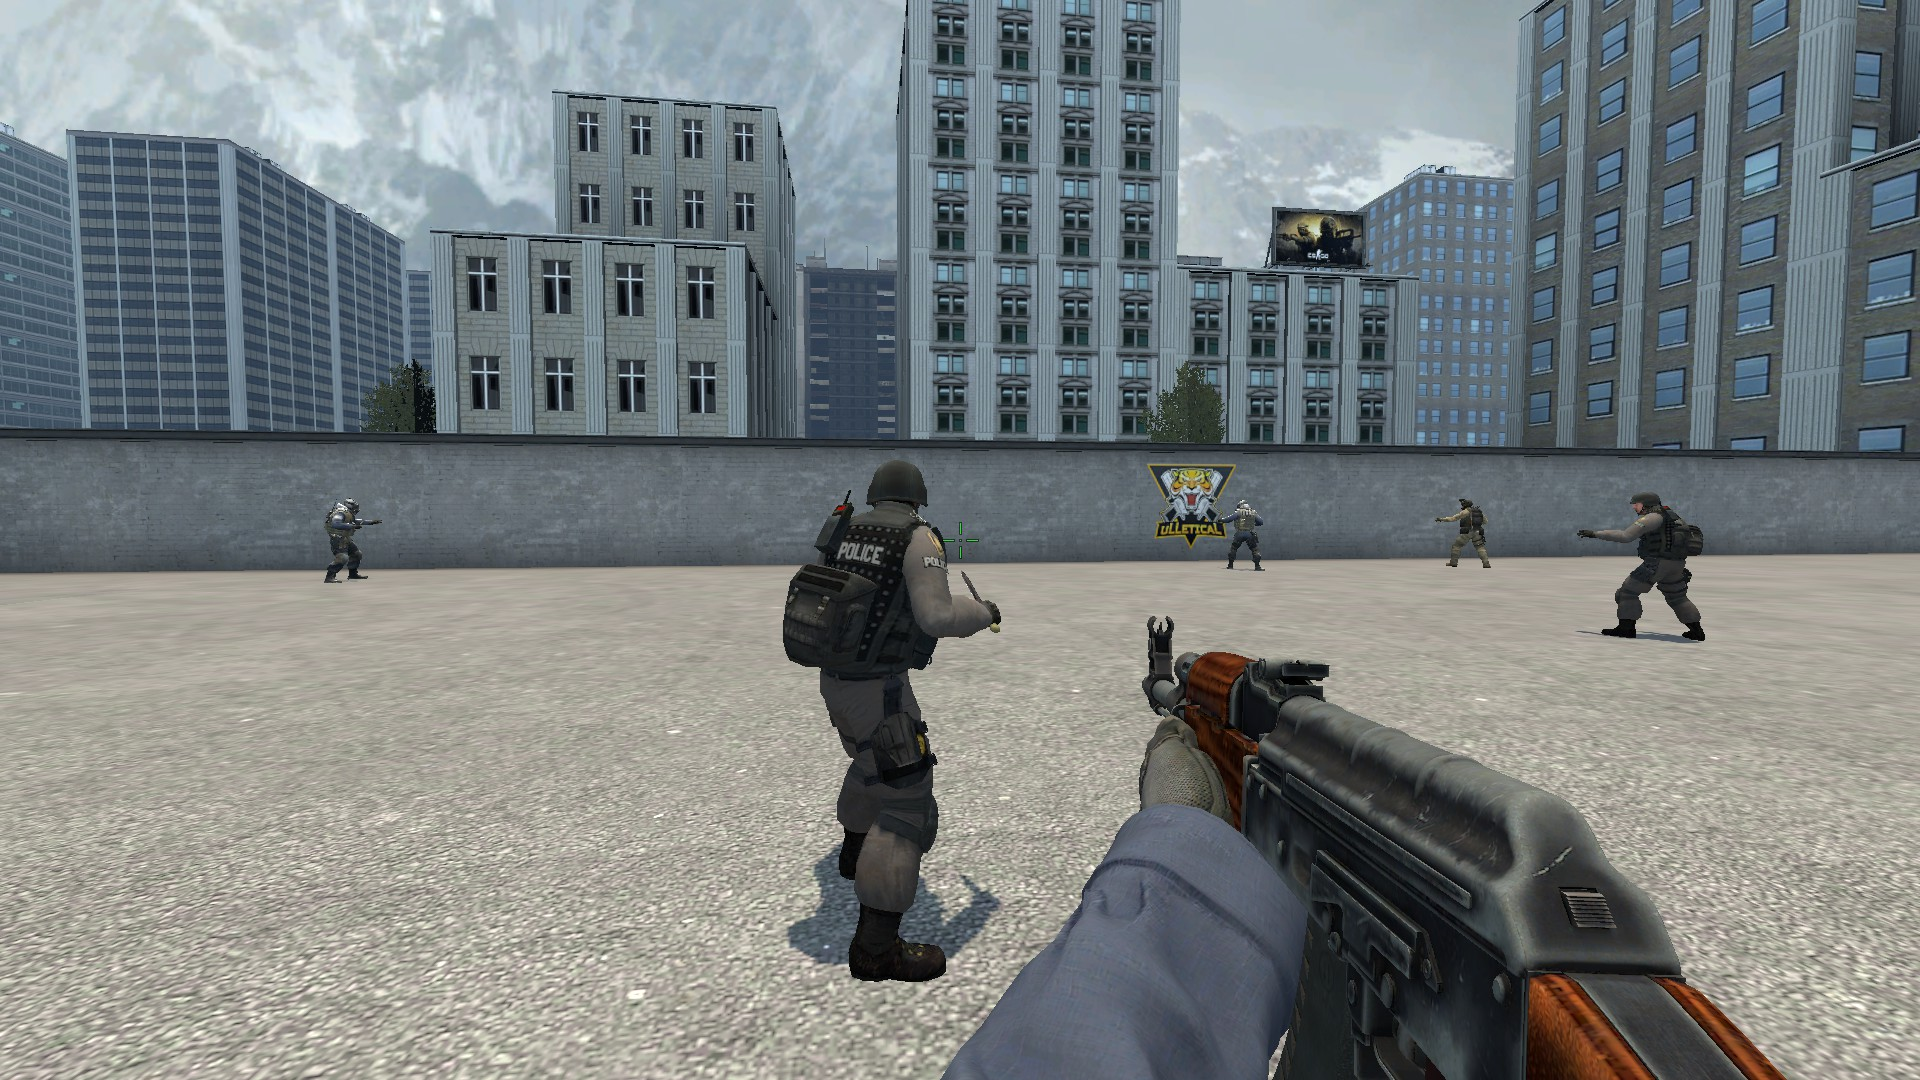ct: (779, 458, 1013, 985), (1577, 491, 1710, 641)
ct head: (861, 454, 935, 524), (1625, 493, 1667, 520)
